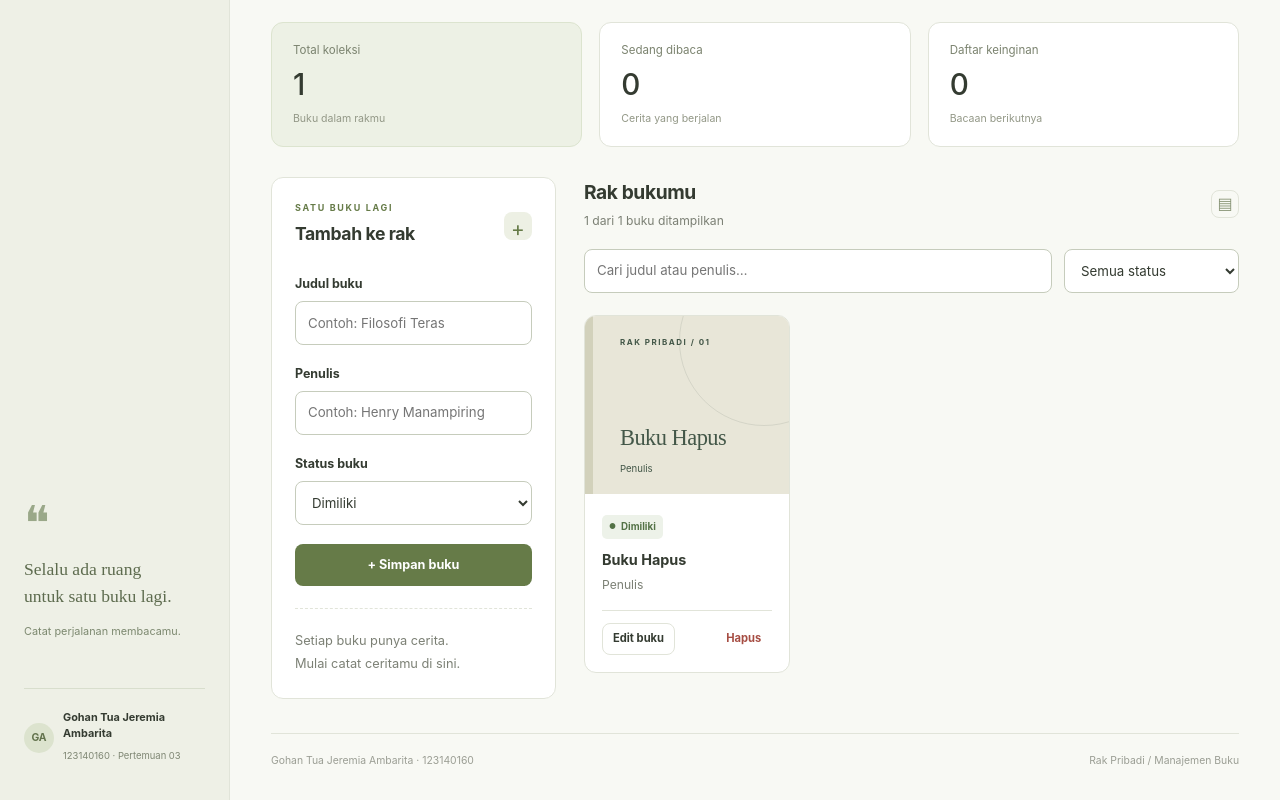
it: menghapus buku sampai koleksi kosong dan menyimpan array kosong
The width and height of the screenshot is (1280, 800).
(page scrolled)
Click the button with aria-label "Hapus Buku Hapus".
click(744, 639)  # box [715,623,772,655]
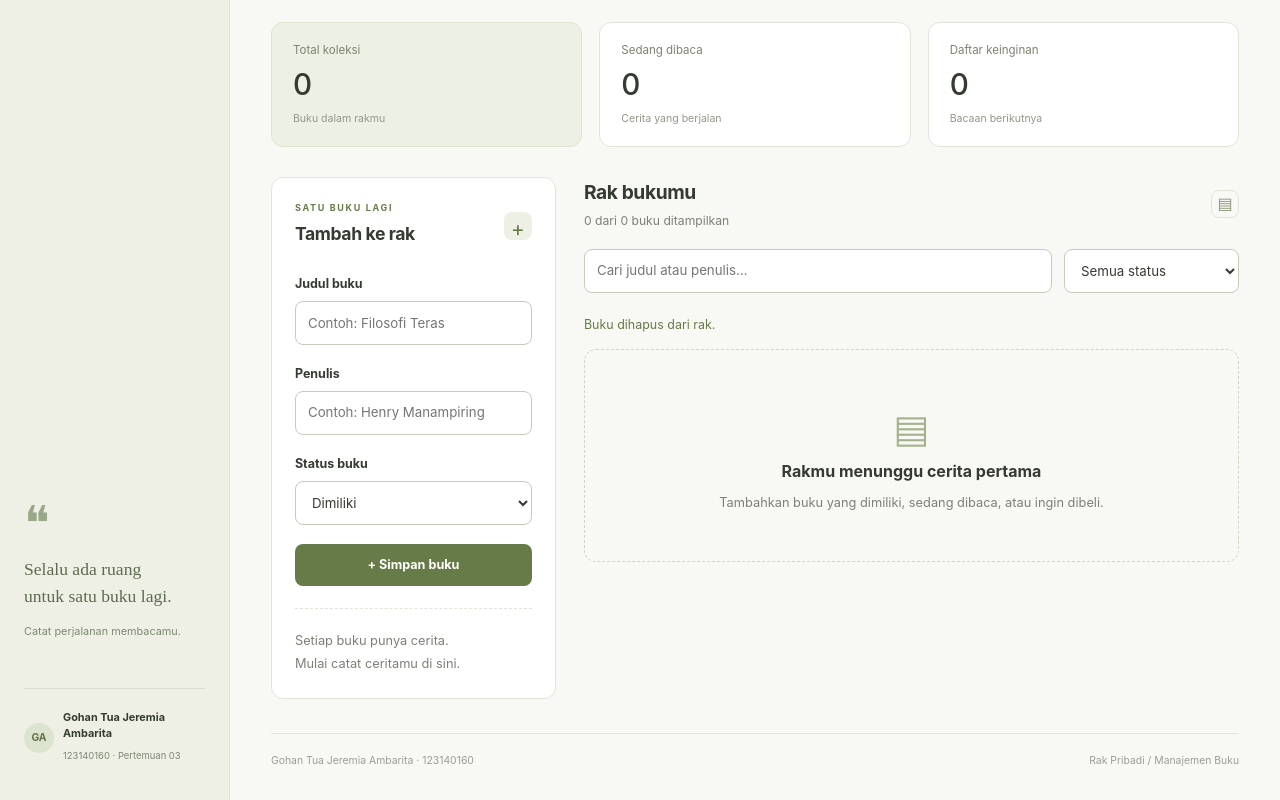
Result: the text "Buku Hapus" is gone
Result: the heading "Rakmu menunggu cerita pertama" is shown at [782,461,1041,481]
